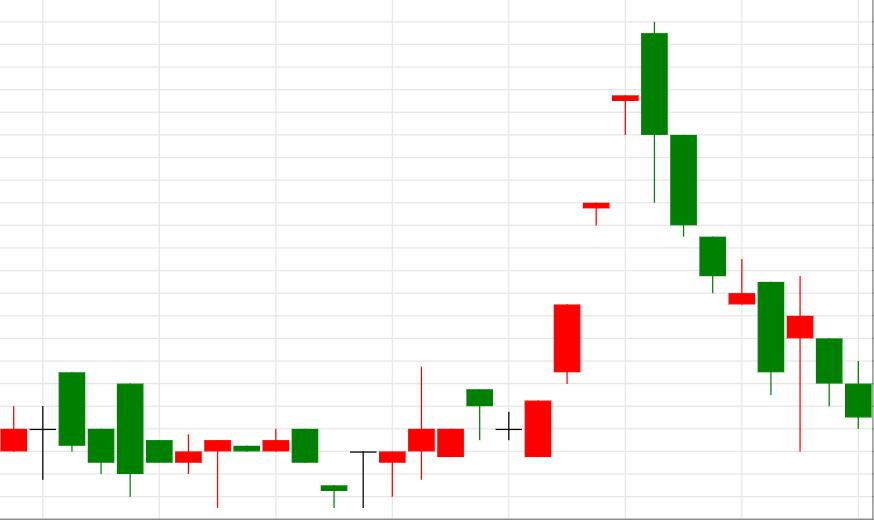bearish_engulfing_fall: (495, 19, 668, 458)
